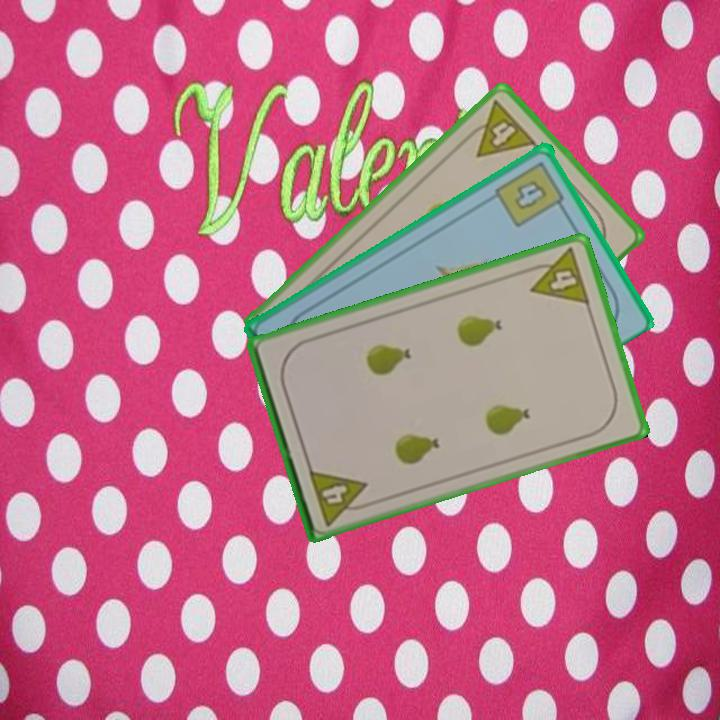4b: (492, 156, 569, 229)
4p: (459, 96, 539, 161), (521, 244, 593, 308), (305, 465, 375, 528)
